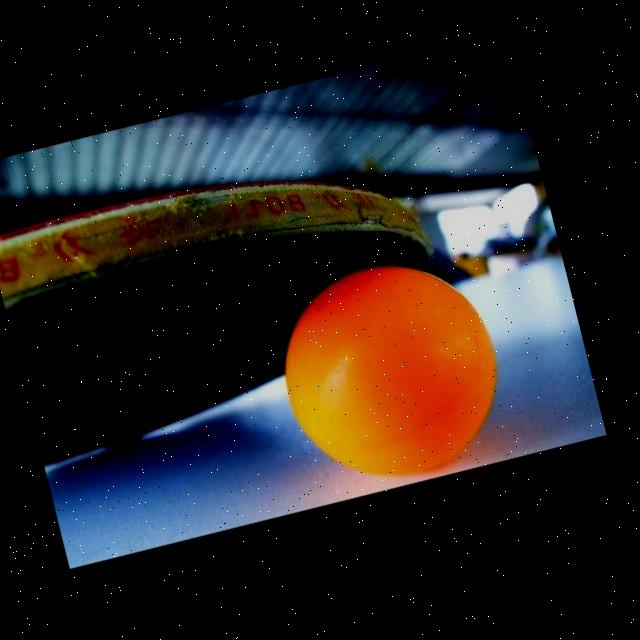ping-pong-ball: (263, 244, 518, 501)
